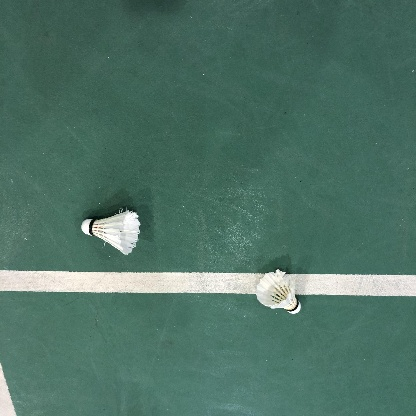ball_single: (81, 210, 141, 254), (256, 269, 301, 314)
